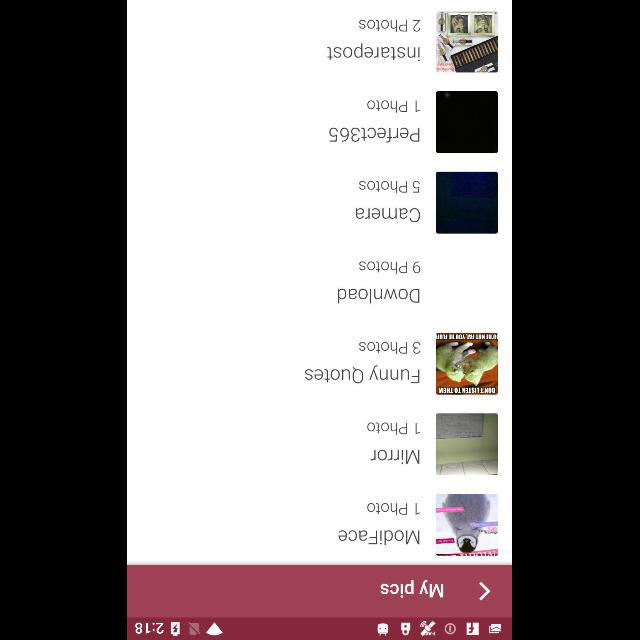icon: (480, 582, 492, 600)
image: (437, 172, 499, 234), (437, 333, 499, 395), (437, 413, 499, 475), (437, 494, 499, 556), (437, 12, 499, 72), (438, 91, 498, 152)
text: (306, 365, 420, 383), (328, 44, 420, 60), (330, 127, 420, 143), (338, 288, 420, 304), (339, 530, 421, 546), (381, 580, 444, 598), (356, 208, 420, 222), (360, 260, 420, 274), (360, 180, 420, 193), (360, 20, 422, 32), (368, 422, 420, 436), (368, 502, 420, 516), (360, 342, 420, 354), (372, 450, 421, 464), (368, 100, 420, 112)
toolbar: (128, 565, 512, 617)
uppertaskbar: (128, 617, 512, 639)
